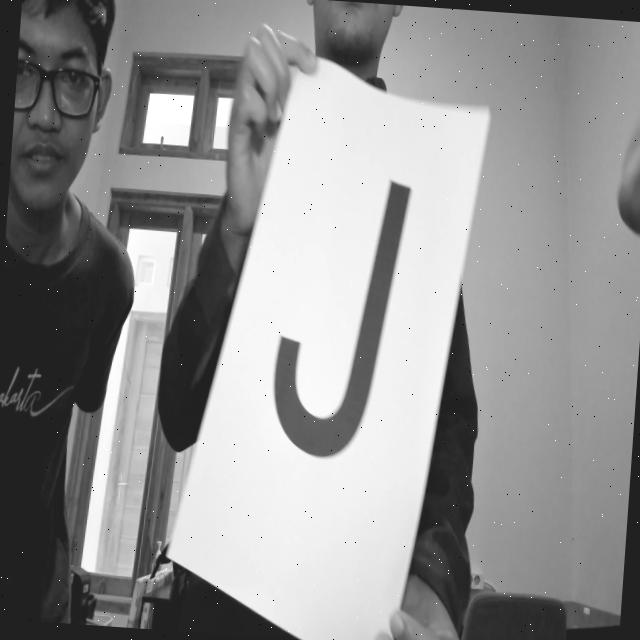j: (264, 161, 414, 469)
